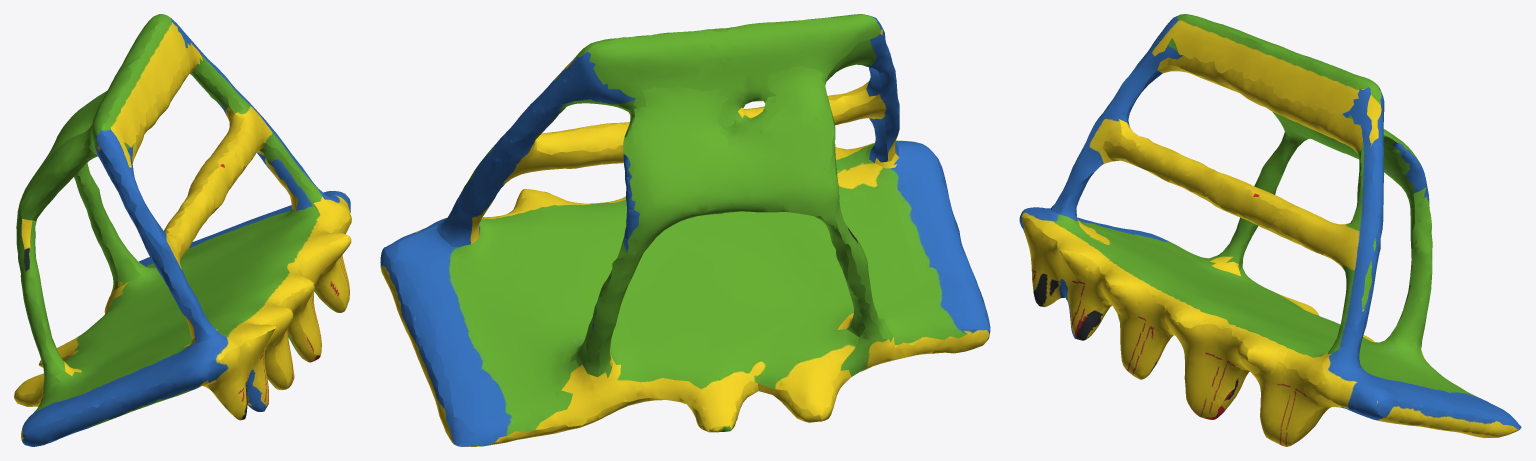
File: startgate-sus.glb
3 views of the same model, side by side, from view 1: azimuth 30°, elevation 25°; view 2: azimuth 150°, elevation 25°; view 3: azimuth 270°, elevation 25° (orthographic). The views are drawn at different scales.
Visible parts, largest first — view 1: geometry_0; view 2: geometry_0; view 3: geometry_0.
Boxes of the visible parts, <box> form: geometry_0: <box>14,14,351,446</box>; geometry_0: <box>380,14,990,446</box>; geometry_0: <box>1019,14,1521,446</box>.
Size of the model in its own units: 0.9896 by 0.6958 by 0.9827.
Materials: 1 (1 with a texture image).
